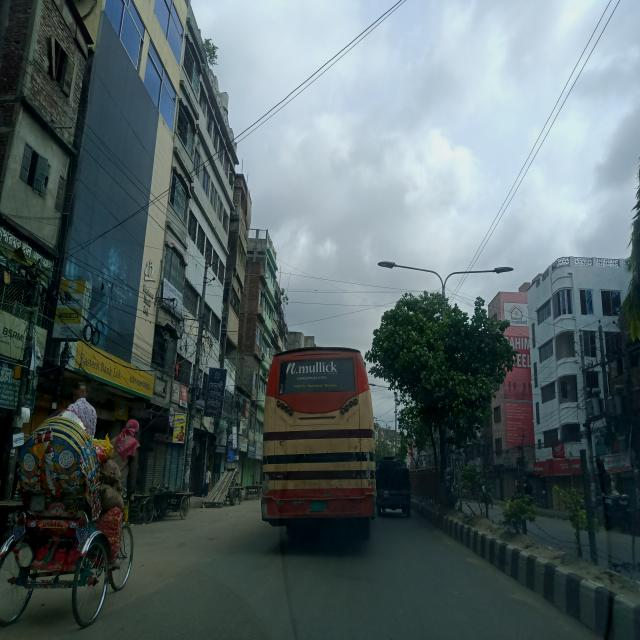bus: (263, 345, 376, 523)
